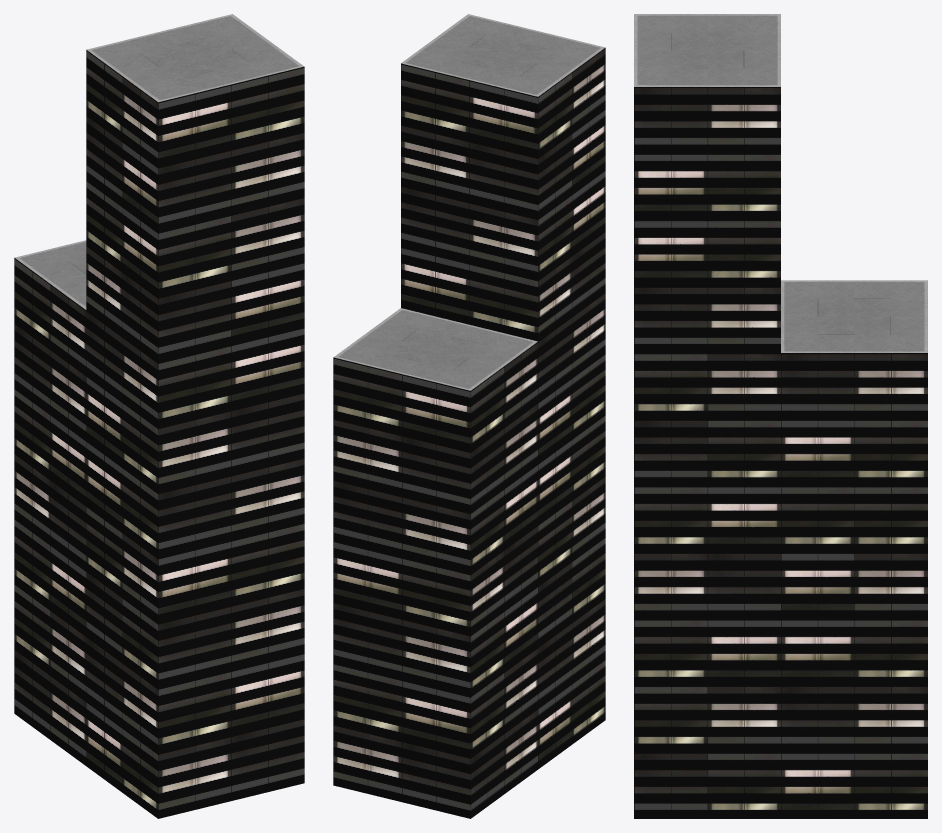
3 renders of one model, left to right at view 1: azimuth 30°, elevation 25°; view 2: azimuth 150°, elevation 25°; view 3: azimuth 270°, elevation 25°, orthographic. The views are drawn at different scales.
Parts seen in each view (by area): view 1: Building_square2tier; view 2: Building_square2tier; view 3: Building_square2tier.
Boxes of the visible parts, x1,y1,x2,y2 form: Building_square2tier: [14, 14, 304, 818]; Building_square2tier: [333, 14, 605, 818]; Building_square2tier: [634, 14, 927, 818].
Size of the model in its own units: 28.2 by 132 by 48.
1 material, 1 textured.
